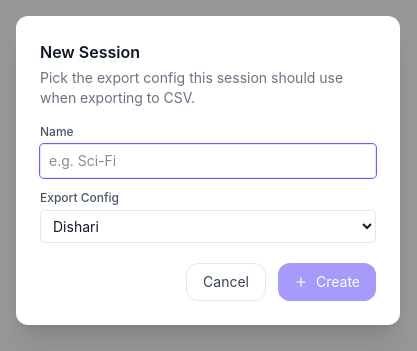
Test: CreateSessionDialog › Create button is disabled until a name is entered
Expected: the button "Create" is disabled, [278,262,376,300]
Type "Sci-Fi" into the field labelled "Name" at (208, 160), box [40,144,376,178]
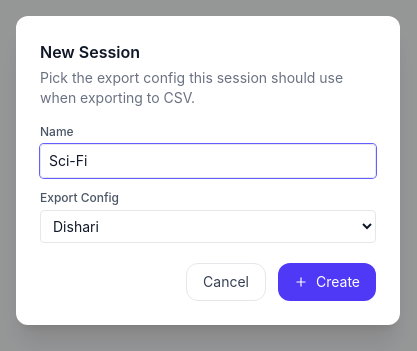
Expected: the button "Create" is enabled, [278,262,376,300]
